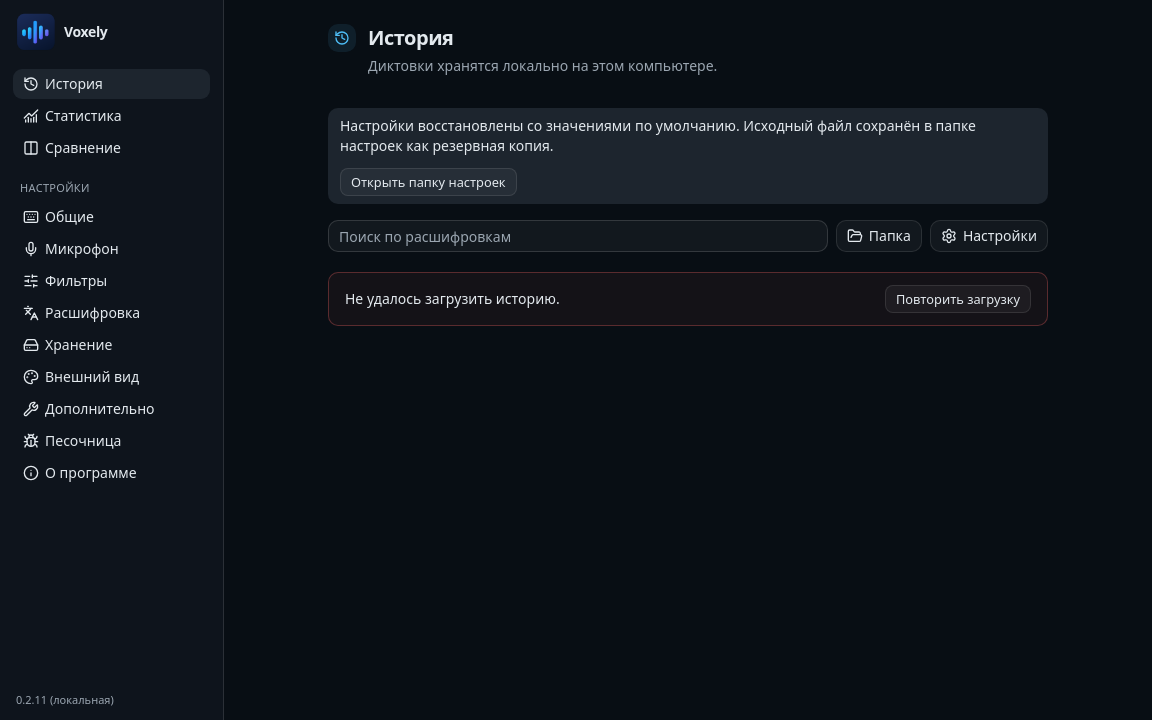
Test: MainApp › shows a failed initial history load and recovers when the user retries
Expected: the message shows "Не удалось загрузить историю.", [345,289,560,308]
Click the button "Повторить загрузку" at (958, 299), box [885,285,1031,313]
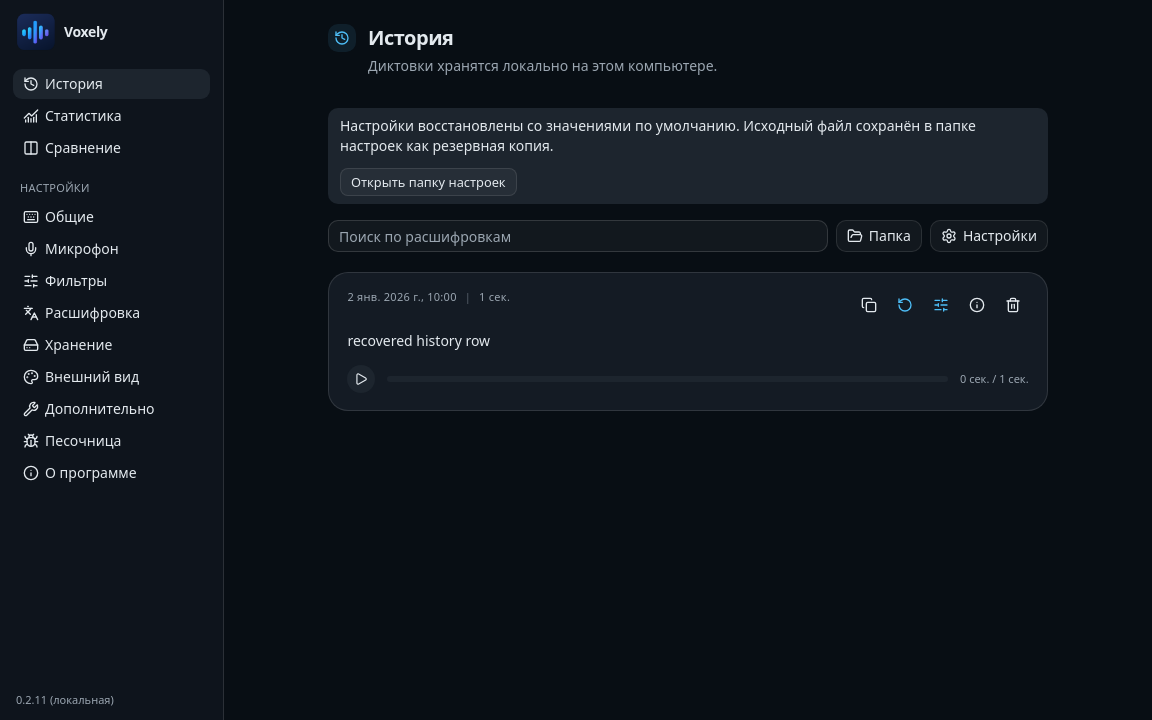
Expected: the text "recovered history row" is shown, [347,331,490,350]
Expected: the message "Не удалось загрузить историю. Повторить загрузку" is gone
